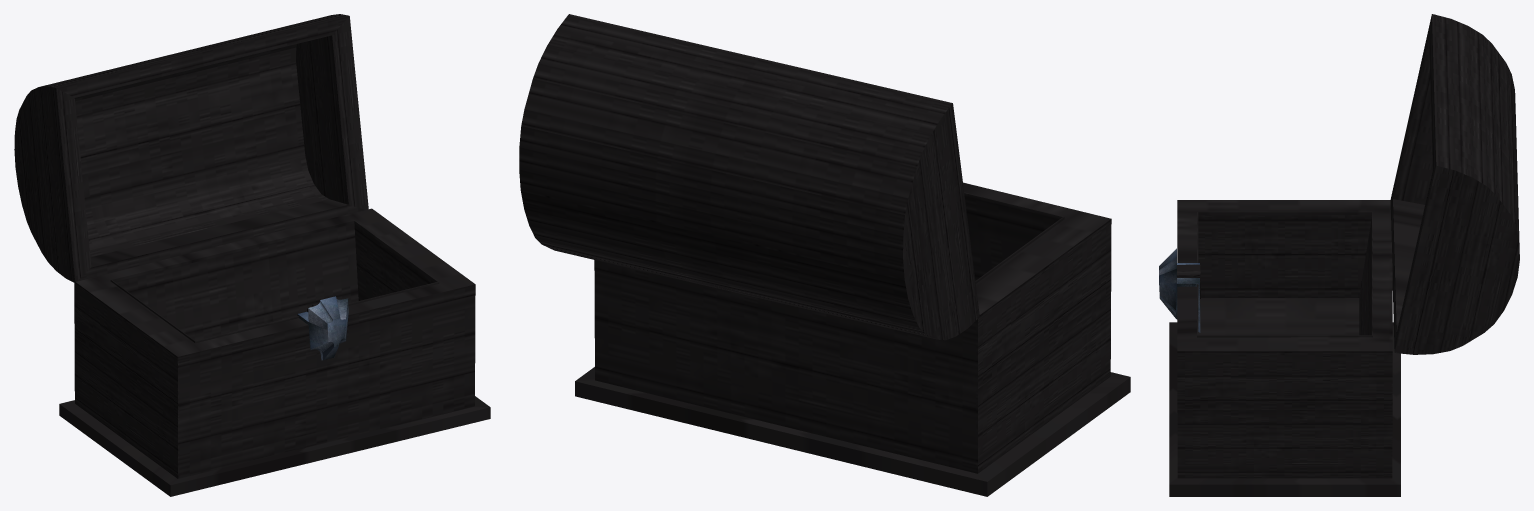
Rendered from chest.fbx.
3 renders of one model, left to right at view 1: azimuth 30°, elevation 25°; view 2: azimuth 150°, elevation 25°; view 3: azimuth 270°, elevation 25°, orthographic. The views are drawn at different scales.
Parts seen in each view (by area): view 1: Cube.003, Cube; view 2: Cube, Cube.003; view 3: Cube.003, Cube.
Part boxes in pixels (x1,y1,x2,y2): Cube.003: (59, 208, 490, 496); Cube: (14, 14, 368, 282); Cube: (519, 14, 979, 340); Cube.003: (575, 182, 1130, 496); Cube.003: (1159, 200, 1400, 496); Cube: (1390, 14, 1519, 354).
Size of the model in its own units: 276 by 258 by 259.
